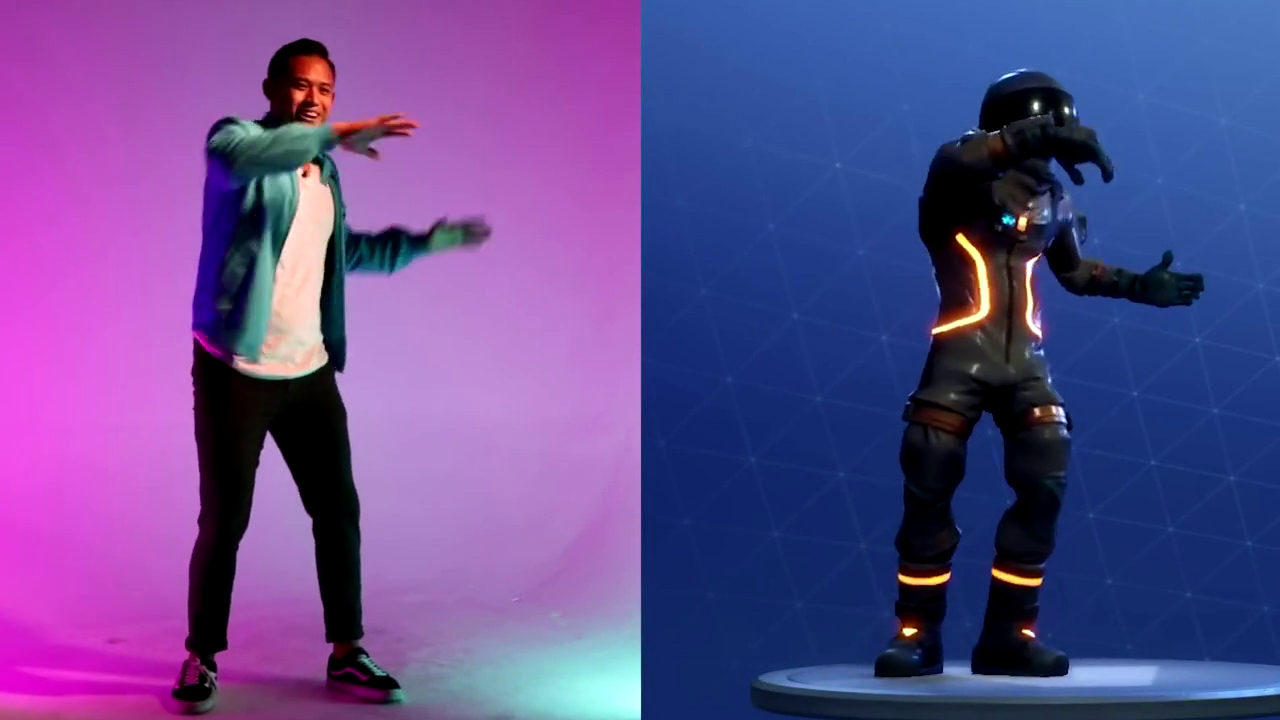Head: (258, 26, 352, 133)
Hip: (177, 323, 379, 452)
LeftAnkle: (297, 630, 421, 712)
LeftKnee: (295, 472, 396, 569)
LeftWrist: (405, 204, 516, 269)
RightAnkle: (163, 624, 249, 716)
RightKnee: (176, 469, 273, 563)
RightShoulder: (202, 104, 273, 178)
RightWrist: (325, 113, 412, 173)
Torso: (221, 124, 360, 361)
